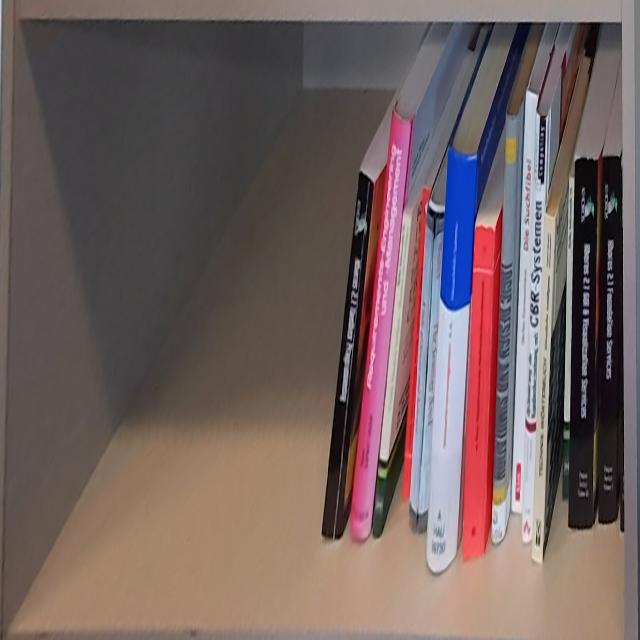Book Spine: (349, 107, 413, 538), (426, 145, 479, 573), (320, 168, 376, 541), (520, 109, 551, 545), (372, 210, 413, 538), (490, 112, 519, 548), (511, 89, 539, 515), (568, 154, 597, 531), (463, 226, 494, 559), (402, 185, 431, 501), (530, 213, 555, 566), (407, 211, 434, 532), (419, 215, 445, 533), (601, 154, 620, 525), (563, 178, 574, 498)
